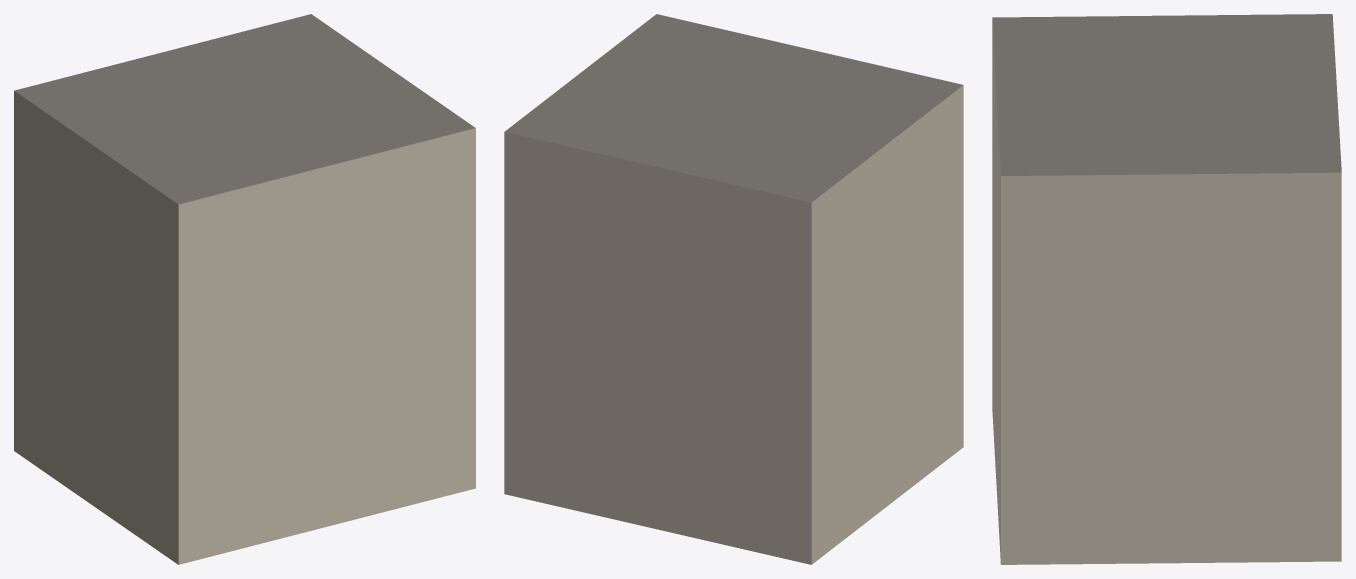
3 renders of one model, left to right at view 1: azimuth 30°, elevation 25°; view 2: azimuth 150°, elevation 25°; view 3: azimuth 270°, elevation 25°, orthographic. The views are drawn at different scales.
Visible parts, largest first — view 1: HP-w1424106490; view 2: HP-w1424106490; view 3: HP-w1424106490.
Boxes of the visible parts, x1=… form: HP-w1424106490: x1=14, y1=14, x2=475, y2=564; HP-w1424106490: x1=504, y1=14, x2=963, y2=564; HP-w1424106490: x1=992, y1=14, x2=1341, y2=564.
Size of the model in its own units: 10.73 by 12 by 9.78.
